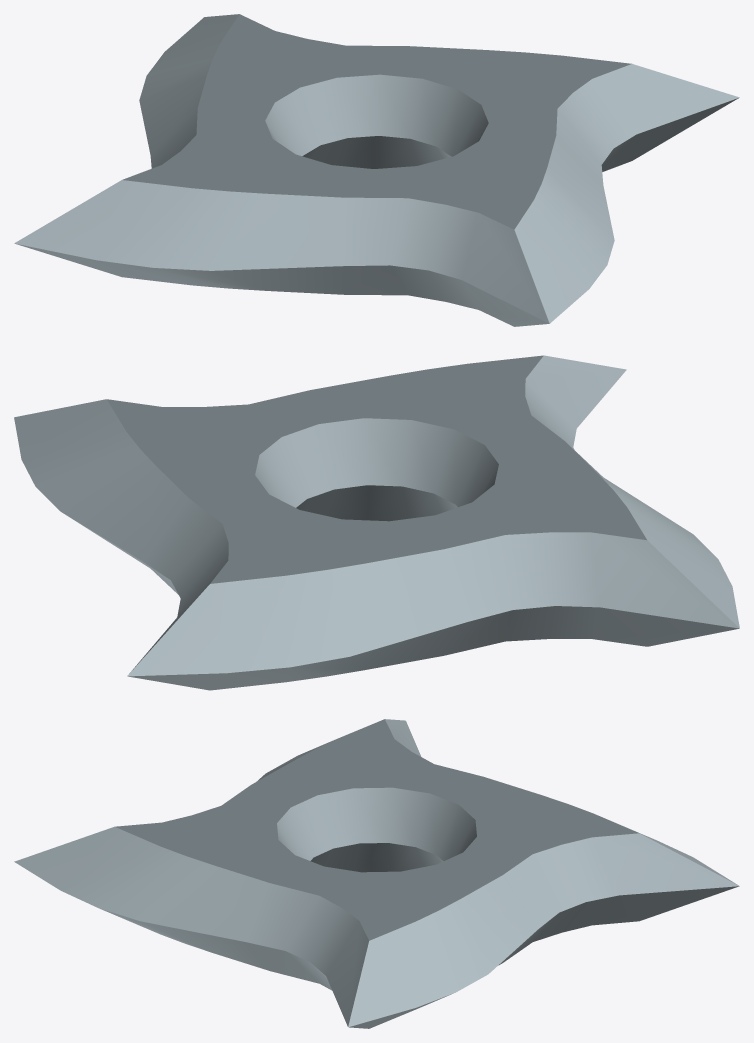
Rendered from SM_Shuriken.fbx.
3 renders of one model, top to bottom at view 1: azimuth 30°, elevation 25°; view 2: azimuth 150°, elevation 25°; view 3: azimuth 270°, elevation 25°, orthographic. The views are drawn at different scales.
Parts seen in each view (by area): view 1: SM_Shuriken; view 2: SM_Shuriken; view 3: SM_Shuriken.
Part boxes in pixels (x1,y1,x2,y2): SM_Shuriken: (14, 14, 739, 326); SM_Shuriken: (14, 355, 739, 690); SM_Shuriken: (14, 719, 739, 1028).
Size of the model in its own units: 0.3553 by 0.0475 by 0.3553.
